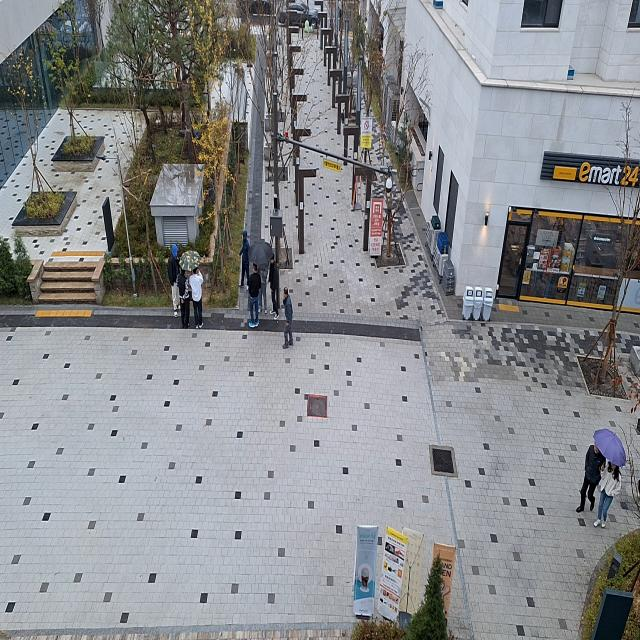Car: (275, 0, 326, 31)
